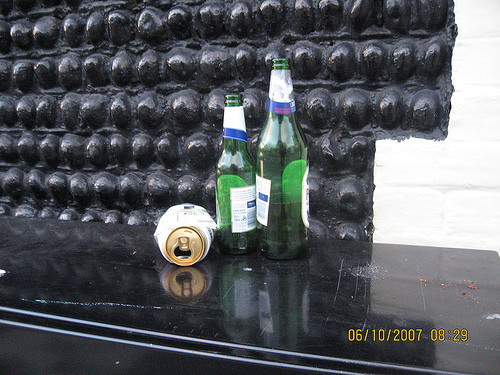litter: (256, 58, 311, 262), (215, 93, 256, 255), (153, 203, 216, 268)
